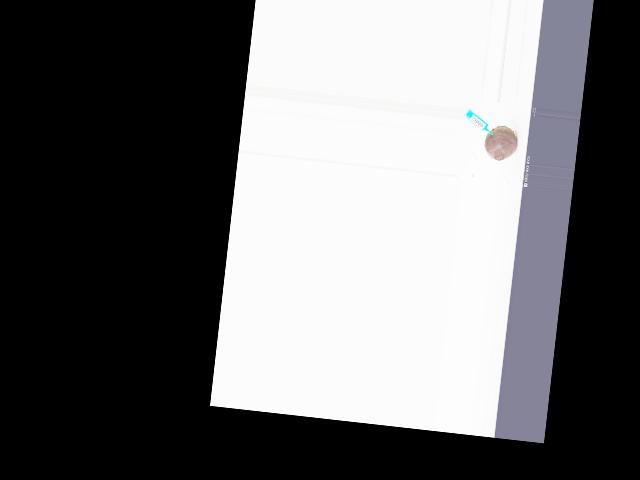beet: (483, 124, 519, 162)
